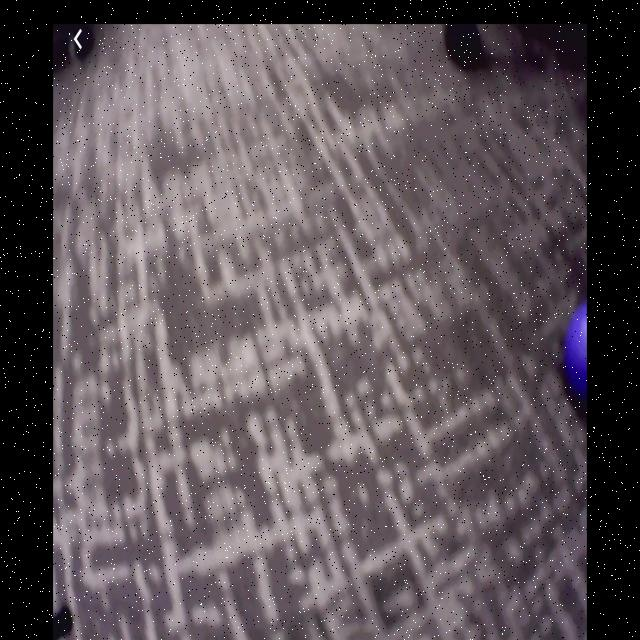ball: (566, 303, 588, 396)
